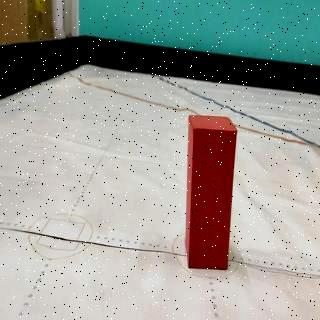redbox: (186, 114, 238, 269)
